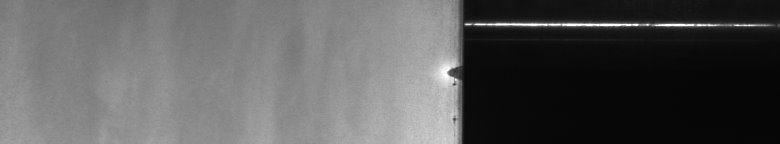hb: (440, 62, 452, 88)
